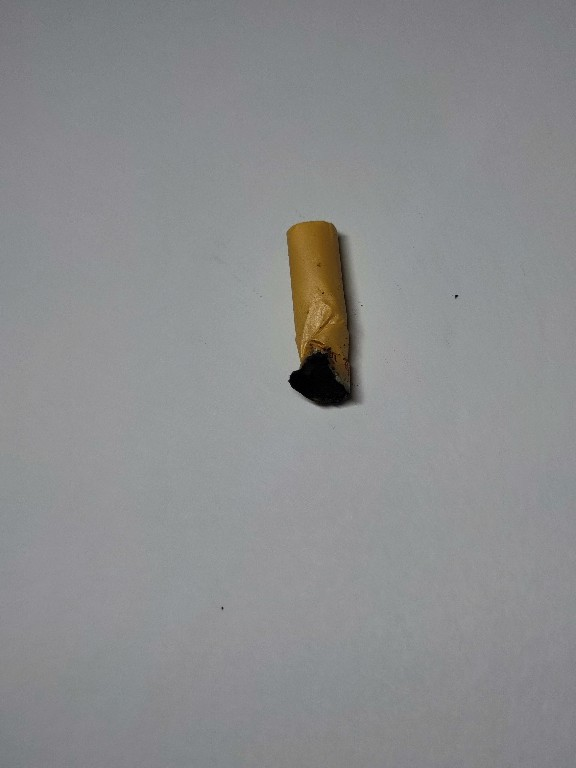cigarette: (280, 213, 370, 414)
